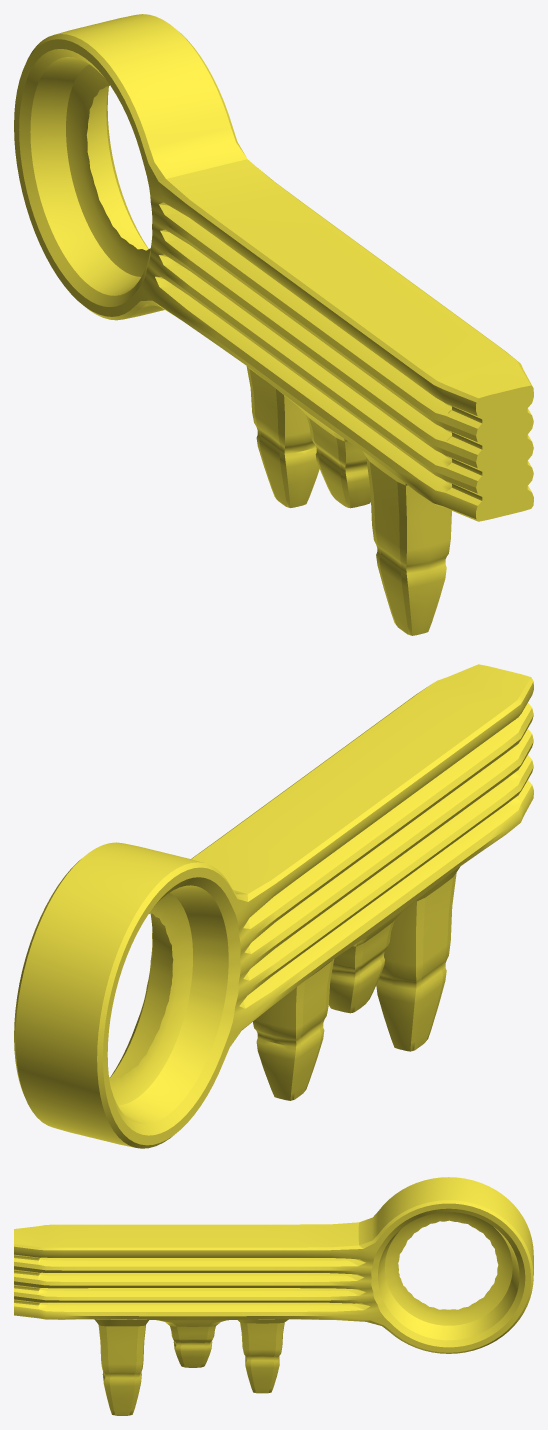
The model's file is Key.fbx.
3 views of the same model, one above another, from view 1: azimuth 30°, elevation 25°; view 2: azimuth 150°, elevation 25°; view 3: azimuth 270°, elevation 25° (orthographic). The views are drawn at different scales.
Parts seen in each view (by area): view 1: Circle; view 2: Circle; view 3: Circle.
Part boxes in pixels (<box>): Circle: <box>14,14,533,635</box>; Circle: <box>14,664,533,1148</box>; Circle: <box>14,1177,533,1415</box>.
Size of the model in its own units: 70.22 by 290 by 606.
